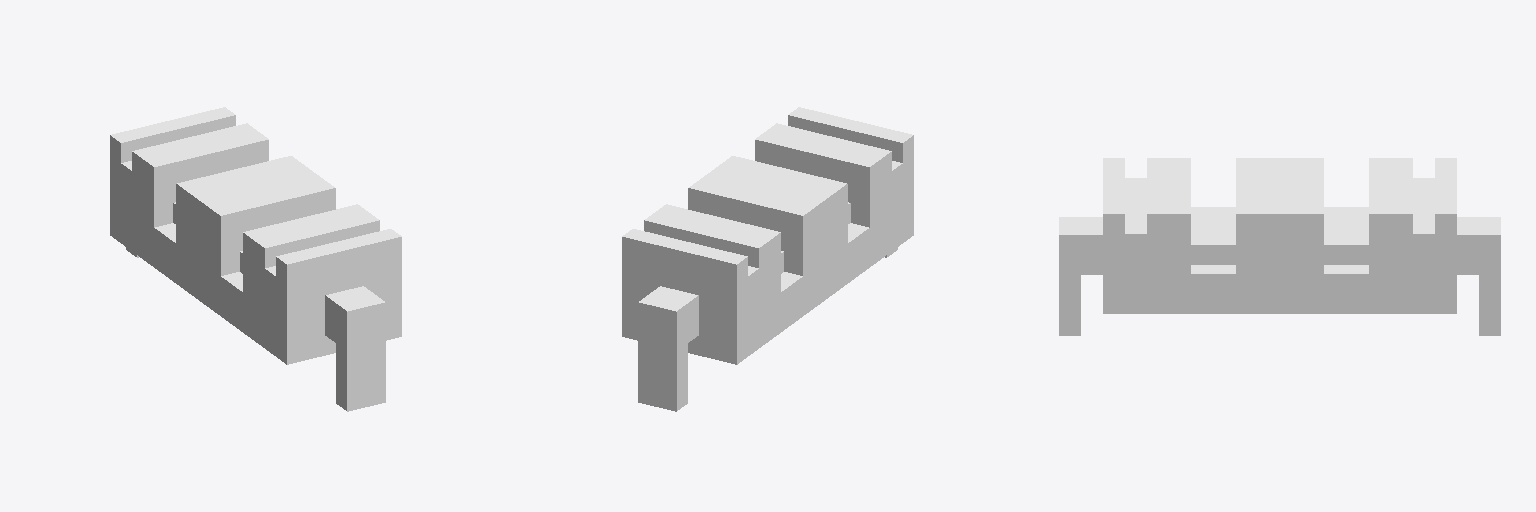
Rendered from rez3.obj.
3 renders of one model, left to right at view 1: azimuth 30°, elevation 25°; view 2: azimuth 150°, elevation 25°; view 3: azimuth 270°, elevation 25°, orthographic.
Parts seen in each view (by area): view 1: object 1; view 2: object 1; view 3: object 1.
Boxes of the visible parts, x1,y1,x2,y2 form: object 1: [110, 107, 401, 411]; object 1: [622, 107, 913, 411]; object 1: [1059, 158, 1500, 335].
Size of the model in its own units: 0.6 by 0.7 by 2.